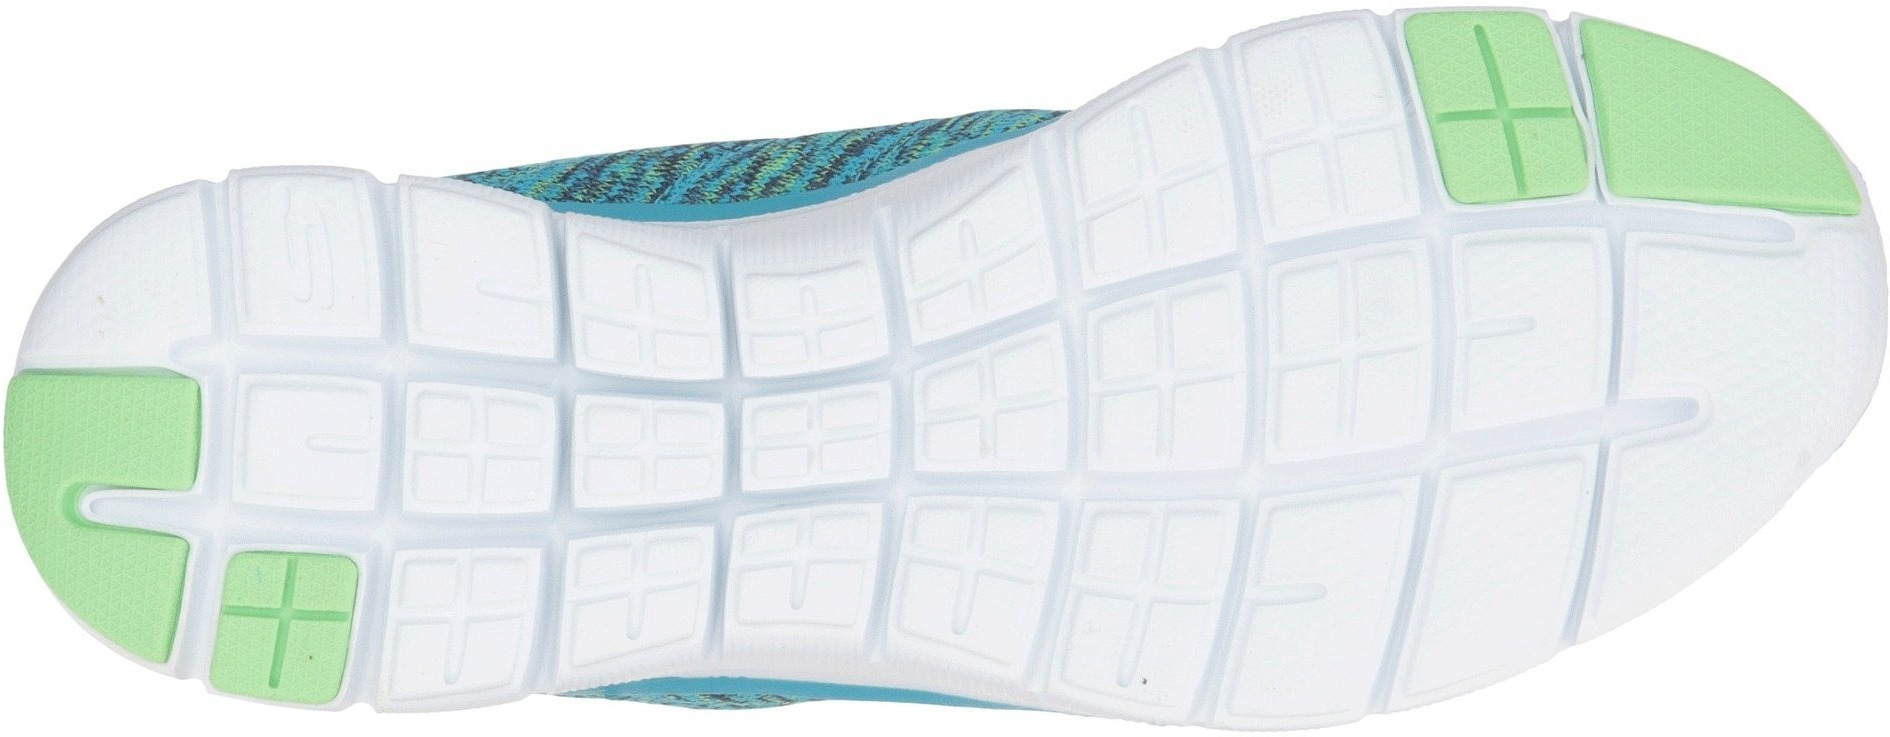exclude: (494, 642, 1143, 735)
quad: (614, 262, 1020, 649), (1061, 81, 1456, 474), (204, 353, 571, 703), (1424, 104, 1778, 434), (1047, 497, 1295, 716)
ribbon: (46, 429, 219, 593)
text: (237, 185, 369, 308)
